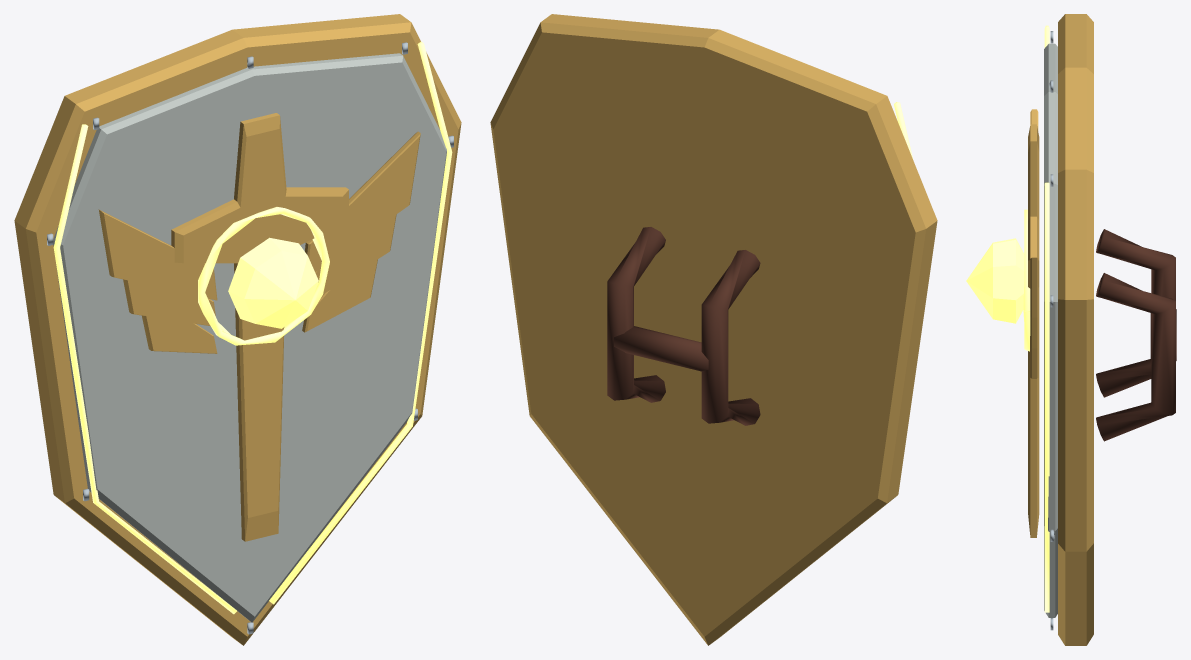
File: wooden-shield-legendary-low.glb
3 views of the same model, side by side, from view 1: azimuth 30°, elevation 25°; view 2: azimuth 150°, elevation 25°; view 3: azimuth 270°, elevation 25° (orthographic). The views are drawn at different scales.
Parts seen in each view (by area): view 1: wooden-shield__legendary; view 2: wooden-shield__legendary; view 3: wooden-shield__legendary.
Part boxes in pixels (<box>): wooden-shield__legendary: <box>14,14,461,645</box>; wooden-shield__legendary: <box>490,14,937,645</box>; wooden-shield__legendary: <box>966,14,1176,645</box>.
Size of the model in its own units: 0.6 by 0.8 by 0.2635.
